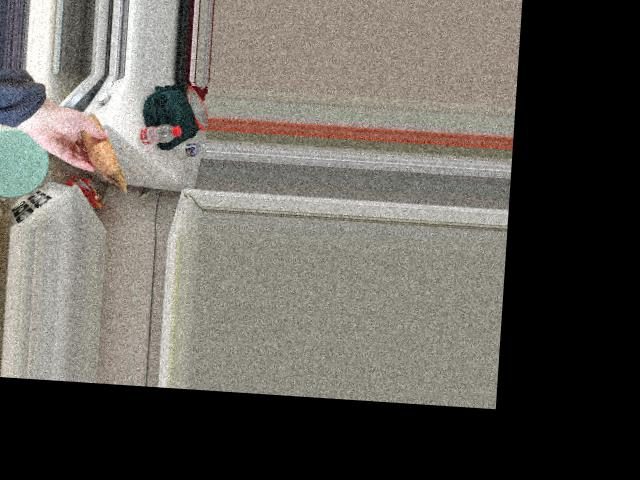sweet_potato: (75, 121, 119, 170)
